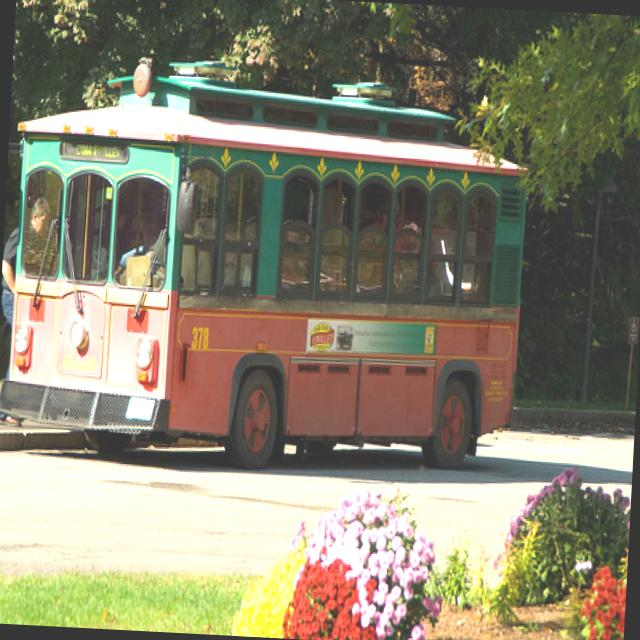Vehicle: (0, 60, 535, 478)
